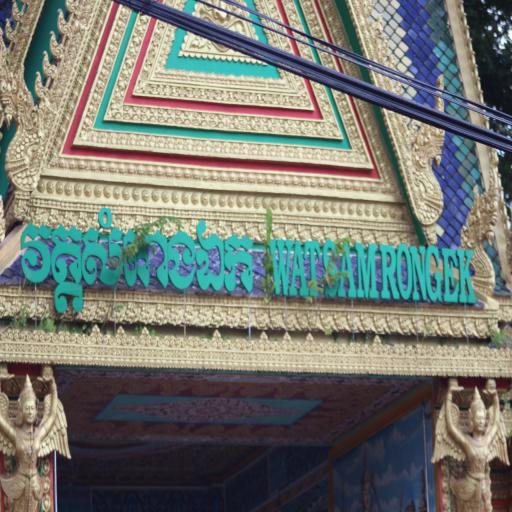hoa: (86, 158, 98, 172), (46, 180, 55, 196), (172, 165, 183, 178), (218, 194, 228, 208), (280, 175, 292, 186), (182, 190, 190, 206), (74, 183, 83, 197), (132, 188, 141, 202), (142, 188, 151, 202), (155, 163, 164, 177), (56, 182, 64, 197), (84, 183, 92, 198), (94, 182, 102, 197), (67, 158, 77, 170), (182, 168, 192, 180), (218, 170, 228, 182), (98, 160, 107, 173), (108, 161, 117, 174), (300, 175, 309, 188), (38, 180, 46, 194), (104, 185, 112, 199), (200, 192, 208, 206), (364, 203, 372, 217), (380, 206, 388, 220), (78, 158, 86, 172), (117, 162, 127, 173), (144, 164, 154, 175), (209, 194, 218, 206), (136, 163, 145, 175), (164, 166, 173, 178), (201, 169, 210, 181), (264, 172, 273, 184), (152, 189, 160, 202), (253, 196, 261, 209), (313, 199, 321, 212), (372, 205, 380, 218), (192, 168, 200, 181), (127, 163, 136, 174), (228, 171, 237, 182), (65, 183, 72, 197), (123, 186, 130, 200), (192, 192, 199, 206), (228, 194, 235, 208), (147, 53, 154, 67), (262, 197, 270, 209), (270, 198, 278, 210), (279, 198, 287, 210), (287, 198, 295, 210), (356, 204, 364, 216), (152, 34, 160, 46), (210, 170, 218, 182), (273, 173, 281, 185), (292, 175, 300, 187), (162, 191, 169, 204), (237, 195, 244, 208), (331, 201, 338, 214), (246, 173, 255, 183), (255, 174, 264, 184), (334, 178, 343, 188), (368, 182, 377, 192), (377, 184, 387, 193), (140, 73, 148, 84), (164, 85, 172, 96), (58, 158, 66, 169), (309, 177, 317, 188), (344, 179, 352, 190), (172, 189, 178, 203), (245, 196, 252, 208), (297, 199, 304, 211), (340, 201, 346, 215), (390, 207, 397, 219), (143, 82, 150, 94), (278, 94, 285, 106), (238, 172, 246, 182), (326, 178, 334, 188), (352, 180, 360, 190), (114, 186, 120, 199), (323, 200, 329, 213), (207, 88, 214, 99), (250, 92, 257, 103), (318, 177, 325, 188), (361, 180, 368, 191), (306, 199, 312, 211), (348, 203, 354, 215), (236, 92, 243, 102), (264, 93, 270, 104), (158, 19, 165, 28), (179, 87, 185, 97), (292, 96, 298, 106), (195, 88, 200, 99), (224, 91, 228, 101)
la: (208, 112, 232, 128), (317, 120, 337, 138), (292, 20, 307, 44), (283, 0, 300, 21), (319, 99, 335, 121), (121, 54, 136, 77), (129, 31, 143, 54), (113, 78, 128, 98), (234, 115, 254, 130), (158, 108, 176, 124), (298, 44, 314, 62), (176, 109, 193, 125), (300, 119, 317, 135), (140, 106, 158, 121), (193, 110, 208, 128), (270, 117, 288, 132), (313, 82, 328, 100), (111, 99, 124, 119), (124, 104, 140, 120), (254, 117, 270, 133), (286, 118, 302, 134), (136, 14, 149, 32), (296, 78, 308, 95), (150, 83, 164, 95), (158, 52, 169, 67), (108, 43, 118, 59), (103, 56, 114, 70), (348, 127, 359, 141), (100, 67, 110, 82), (98, 128, 108, 143), (87, 129, 98, 142), (167, 26, 177, 40), (128, 132, 138, 146), (338, 100, 348, 114), (92, 91, 101, 106), (252, 76, 263, 88), (187, 69, 197, 82), (112, 32, 122, 45), (108, 131, 118, 144), (156, 135, 166, 148), (343, 113, 353, 126), (120, 6, 128, 22), (88, 104, 96, 120), (232, 140, 240, 156), (119, 130, 128, 144), (167, 136, 176, 150), (185, 137, 194, 151), (240, 143, 249, 157), (157, 67, 167, 79), (167, 67, 177, 79), (197, 70, 207, 82), (116, 20, 126, 32), (96, 80, 104, 95), (138, 134, 148, 146), (194, 139, 204, 151), (223, 140, 231, 155), (314, 149, 324, 161), (331, 150, 341, 162), (213, 140, 222, 153), (249, 143, 258, 156), (360, 151, 369, 164), (204, 140, 212, 154), (226, 74, 236, 85), (272, 79, 282, 90), (176, 138, 185, 150), (259, 144, 268, 156), (335, 90, 344, 102), (144, 59, 151, 74), (148, 134, 156, 147), (277, 144, 285, 157), (306, 147, 314, 160), (177, 70, 187, 80), (206, 72, 216, 82), (216, 74, 226, 84), (263, 77, 272, 88), (163, 43, 172, 54), (299, 96, 308, 107), (285, 146, 294, 157), (257, 92, 265, 104), (270, 145, 278, 157), (350, 152, 358, 164), (150, 42, 157, 55), (236, 75, 245, 85), (295, 148, 304, 158), (352, 140, 361, 150), (245, 75, 253, 86), (136, 82, 144, 93), (214, 90, 222, 101), (242, 92, 250, 103), (84, 117, 92, 128), (155, 24, 162, 36), (282, 79, 290, 89), (171, 86, 179, 96), (186, 88, 194, 98), (270, 94, 278, 104), (341, 152, 349, 162), (200, 88, 207, 99), (229, 91, 236, 102), (82, 128, 88, 140), (324, 149, 330, 161), (285, 97, 292, 106)
lua: (42, 50, 56, 78), (49, 29, 62, 59), (372, 12, 384, 40), (34, 72, 46, 99), (56, 10, 70, 32), (11, 0, 23, 24), (5, 20, 16, 43), (380, 37, 391, 57), (364, 0, 374, 18), (387, 52, 397, 70), (396, 80, 407, 96)
ran: (416, 80, 449, 227), (1, 80, 40, 189), (468, 176, 502, 288)
than: (439, 378, 512, 512), (0, 368, 63, 511)
